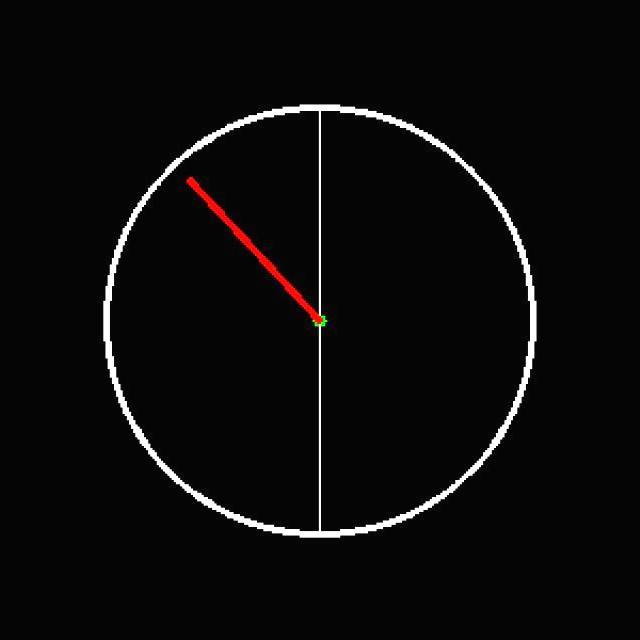Needle_Tip: (171, 169, 217, 200)
Needle_base: (280, 284, 342, 357)
